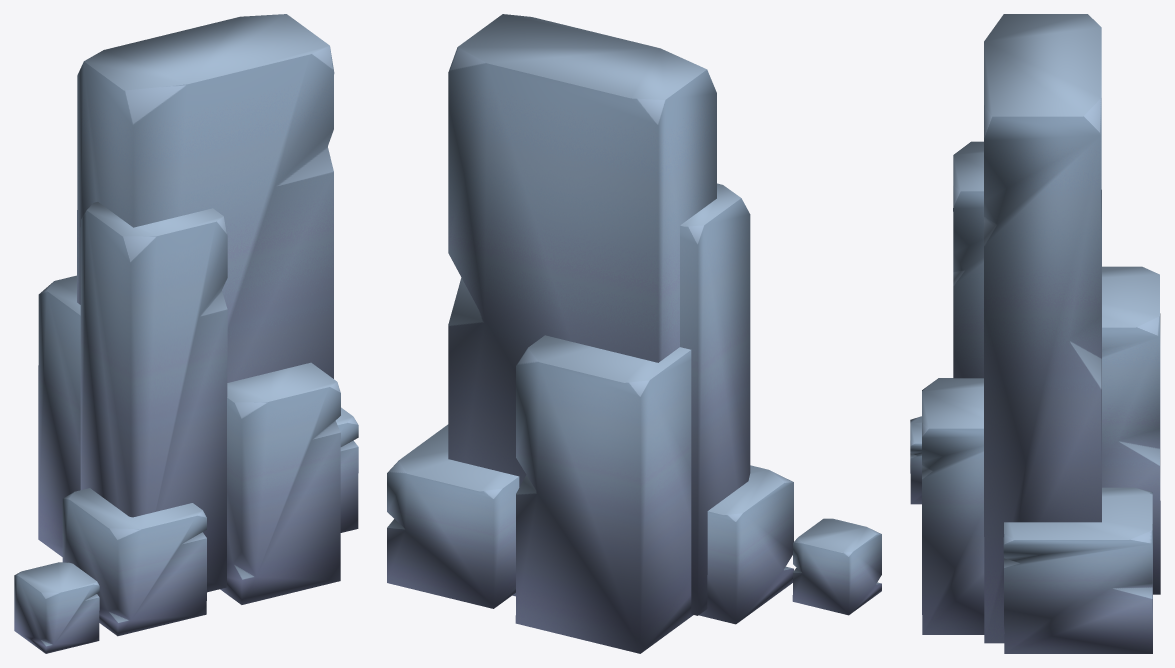
The model's file is galactic_altar.fbx.
3 renders of one model, left to right at view 1: azimuth 30°, elevation 25°; view 2: azimuth 150°, elevation 25°; view 3: azimuth 270°, elevation 25°, orthographic. The views are drawn at different scales.
Visible parts, largest first — view 1: altar; view 2: altar; view 3: altar.
Part boxes in pixels (box(x1,y1,x2,y2)): altar: box(14, 14, 358, 653); altar: box(387, 14, 881, 653); altar: box(910, 14, 1160, 653).
Size of the model in its own units: 0.0198 by 0.0268 by 0.0114.
